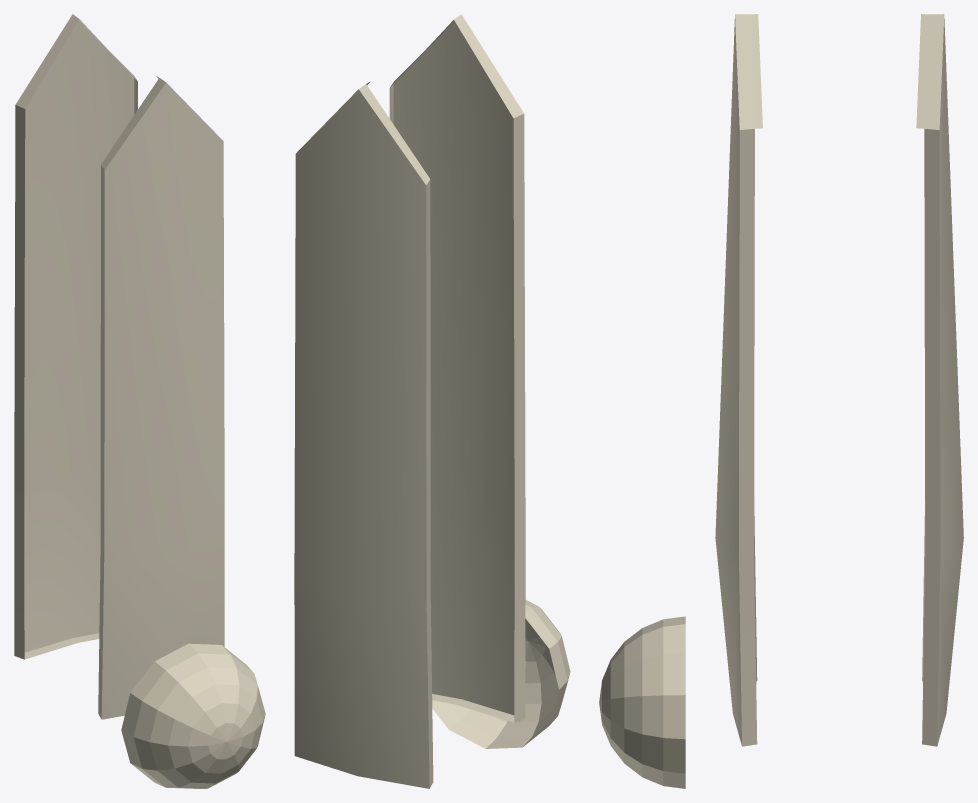
File: pearl.fbx
3 renders of one model, left to right at view 1: azimuth 30°, elevation 25°; view 2: azimuth 150°, elevation 25°; view 3: azimuth 270°, elevation 25°, orthographic. The views are drawn at different scales.
Visible parts, largest first — view 1: pearl4; view 2: pearl4; view 3: pearl4.
Part boxes in pixels (bbox=[...]): pearl4: bbox=[14, 14, 265, 788]; pearl4: bbox=[294, 14, 570, 788]; pearl4: bbox=[599, 14, 963, 788].
Bounding box in the file's own units: 7.27 × 35.51 × 15.3.
